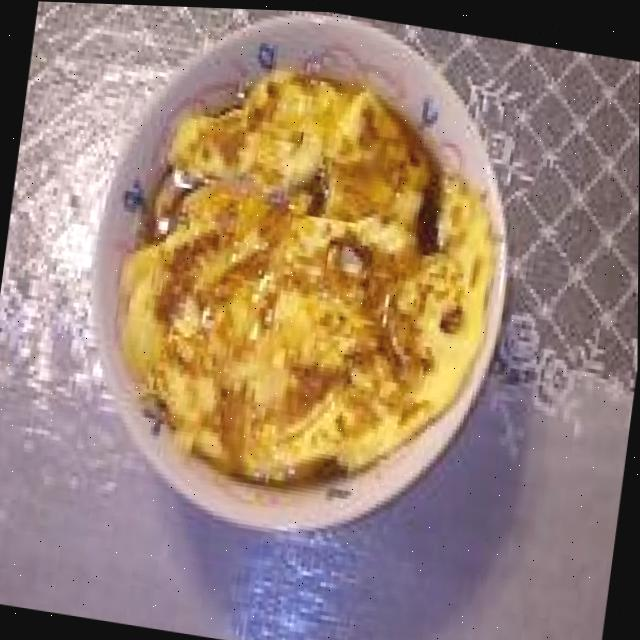面条主食: (90, 20, 515, 534)
